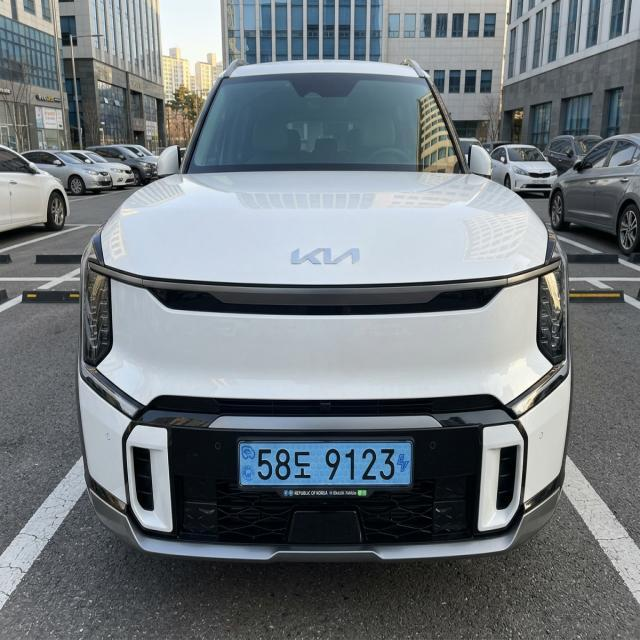car: (228, 429, 427, 504)
carev: (239, 444, 258, 487), (395, 446, 411, 482)
